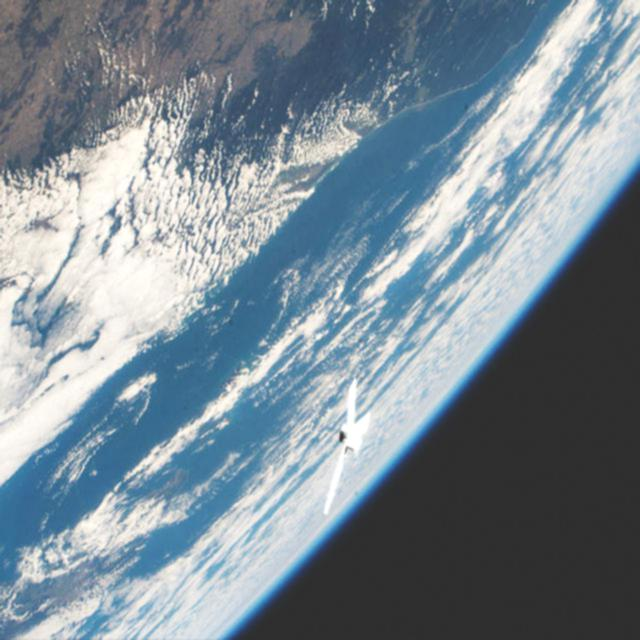satellite: (319, 384, 377, 518)
